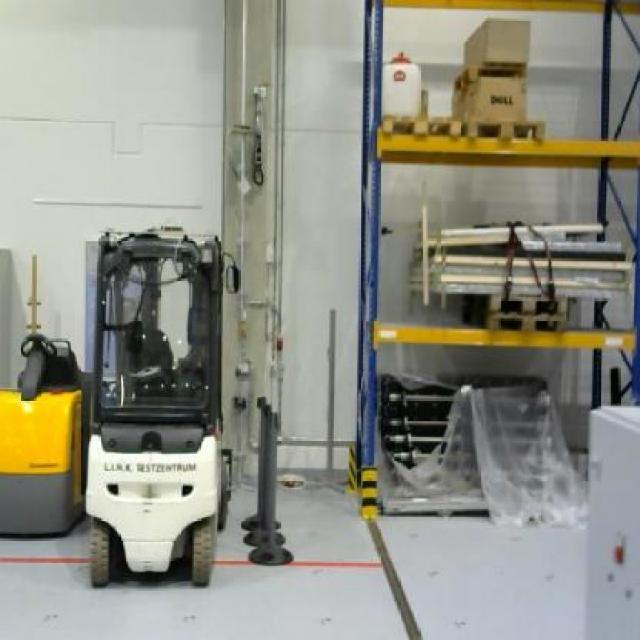box: (449, 78, 528, 120), (464, 20, 528, 68)
